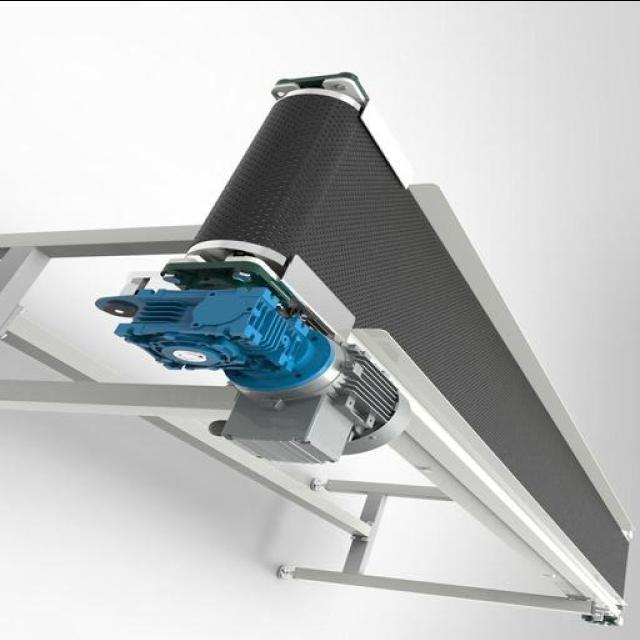conveyor: (188, 89, 629, 608)
